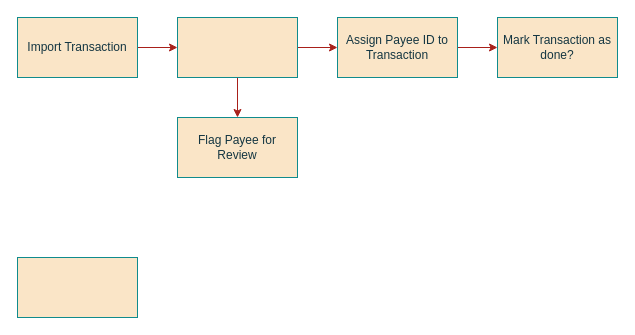
Some shapes in this 635 by 335 pixel diagram are drawn without their labels. Here are the shapes that lost their labels. From the top down, the centre of each, then its label:
(237,47): Check Payee Description against Payee Variants
(77,287): use a flag instead of staging
